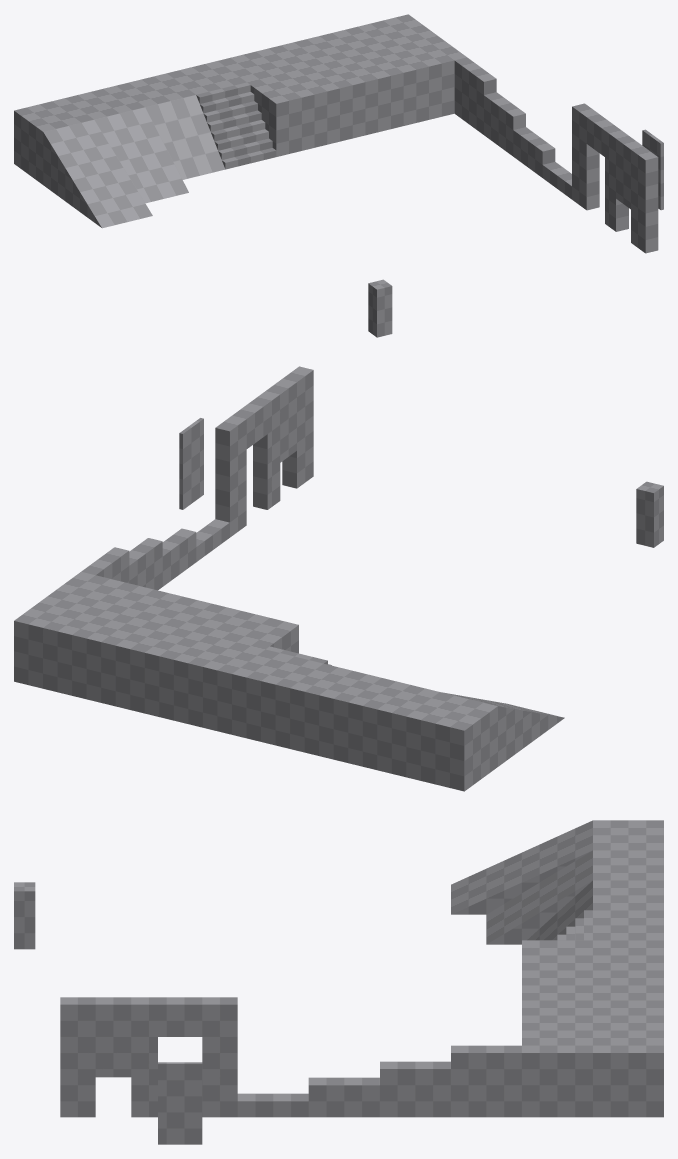
Rendered from testlevel.glb.
3 renders of one model, top to bottom at view 1: azimuth 30°, elevation 25°; view 2: azimuth 150°, elevation 25°; view 3: azimuth 270°, elevation 25°, orthographic. The views are drawn at different scales.
Visible parts, largest first — view 1: templatecubebig-col.008, door ref.001-col, templatecubebig-col.009, refcube-col.004, door-col.001; view 2: templatecubebig-col.008, door ref.001-col, door-col.001, refcube-col.004; view 3: templatecubebig-col.008, door ref.001-col, door-col.001, refcube-col.004, templatecubebig-col.009.
Boxes of the visible parts, <box> form: templatecubebig-col.008: <box>14,14,571,228</box>; door ref.001-col: <box>572,103,658,253</box>; templatecubebig-col.009: <box>196,82,276,169</box>; refcube-col.004: <box>368,279,392,337</box>; door-col.001: <box>642,129,663,210</box>; templatecubebig-col.008: <box>14,519,564,791</box>; door ref.001-col: <box>215,366,313,537</box>; door-col.001: <box>179,418,203,509</box>; refcube-col.004: <box>636,481,663,547</box>; templatecubebig-col.008: <box>237,820,663,1117</box>; door ref.001-col: <box>60,997,237,1117</box>; door-col.001: <box>158,1062,202,1144</box>; refcube-col.004: <box>14,882,35,949</box>; templatecubebig-col.009: <box>557,910,592,940</box>.
Size of what is drawn, in the model's own units: 17.31 by 3.5 by 18.3.
1 material, 1 textured.
